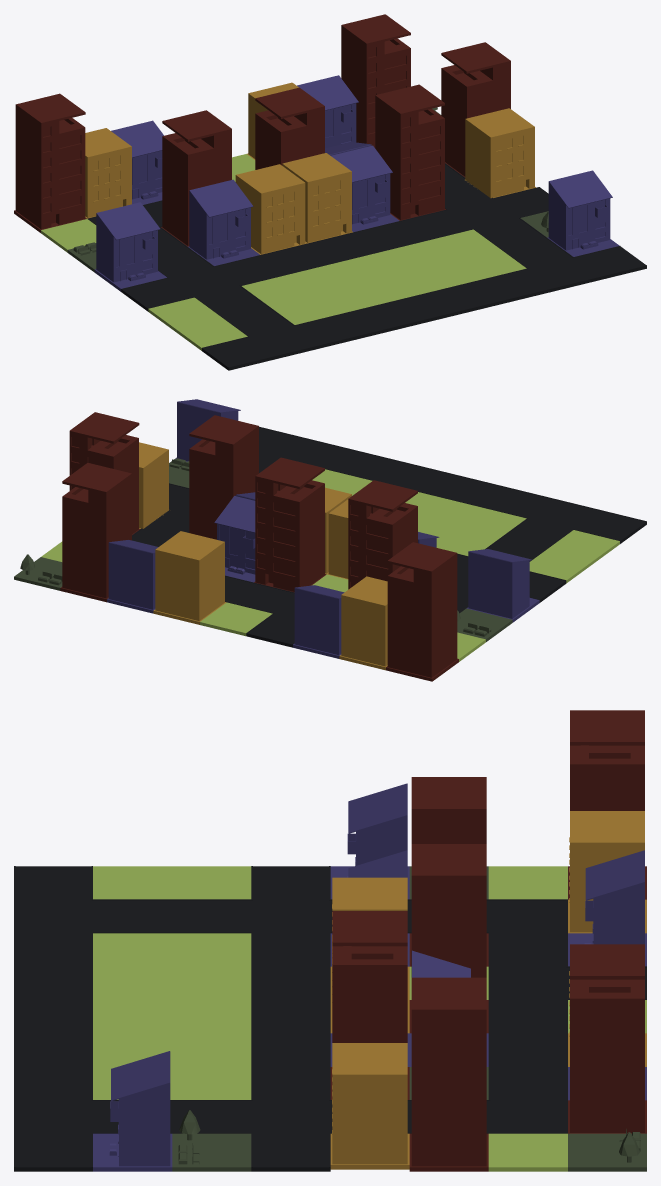
File: map2 72x64.dae
3 renders of one model, top to bottom at view 1: azimuth 30°, elevation 25°; view 2: azimuth 150°, elevation 25°; view 3: azimuth 270°, elevation 25°, orthographic. The views are drawn at different scales.
Visible parts, largest first — view 1: Cube.057, Cube.002, Cube.025, Cube.056, Cube.050, Cube.049, Cube.042, Cube.014, Cube.024, Cube.015, Cube.041, Cube.001 (+43 smaller); view 2: Cube.057, Cube.015, Cube.056, Cube.002, Cube.025, Cube.059, Cube.042, Cube.050, Cube.054, Cube.053, Cube.058, Cube.016 (+33 smaller); view 3: Cube.050, Cube.056, Cube.002, Cube.049, Cube.015, Cube.057, Cube.024, Cube.053, Cube.025, Cube.054, Cube.042, Cube.052 (+47 smaller).
Part boxes in pixels (x1=…): Cube.057: x1=14, y1=93, x2=86, y2=232; Cube.002: x1=375, y1=84, x2=445, y2=220; Cube.025: x1=161, y1=110, x2=231, y2=246; Cube.056: x1=341, y1=14, x2=410, y2=147; Cube.050: x1=441, y1=42, x2=510, y2=177; Cube.049: x1=465, y1=108, x2=535, y2=198; Cube.042: x1=94, y1=202, x2=166, y2=291; Cube.014: x1=235, y1=164, x2=306, y2=254; Cube.024: x1=547, y1=170, x2=619, y2=256; Cube.015: x1=255, y1=87, x2=324, y2=169; Cube.041: x1=188, y1=179, x2=259, y2=265; Cube.001: x1=282, y1=153, x2=352, y2=243; Cube.057: x1=386, y1=542, x2=458, y2=681; Cube.015: x1=254, y1=457, x2=326, y2=592; Cube.056: x1=60, y1=463, x2=131, y2=602; Cube.002: x1=189, y1=415, x2=258, y2=539; Cube.025: x1=348, y1=480, x2=417, y2=589; Cube.059: x1=153, y1=531, x2=226, y2=624; Cube.042: x1=466, y1=549, x2=539, y2=622; Cube.050: x1=69, y1=412, x2=140, y2=534; Cube.054: x1=339, y1=576, x2=387, y2=670; Cube.053: x1=293, y1=585, x2=344, y2=658; Cube.058: x1=107, y1=540, x2=158, y2=613; Cube.016: x1=214, y1=496, x2=255, y2=582; Cube.050: x1=409, y1=977, x2=488, y2=1171; Cube.056: x1=568, y1=944, x2=646, y2=1133; Cube.002: x1=330, y1=911, x2=409, y2=1099; Cube.049: x1=330, y1=1043, x2=409, y2=1169; Cube.015: x1=409, y1=844, x2=488, y2=1033; Cube.057: x1=568, y1=710, x2=646, y2=899; Cube.024: x1=93, y1=1051, x2=172, y2=1171; Cube.053: x1=568, y1=850, x2=646, y2=966; Cube.025: x1=409, y1=777, x2=488, y2=966; Cube.054: x1=568, y1=811, x2=646, y2=933; Cube.042: x1=330, y1=783, x2=409, y2=899; Cube.052: x1=172, y1=1110, x2=251, y2=1171.
Size of the model in its own units: 144 by 128 by 36.
